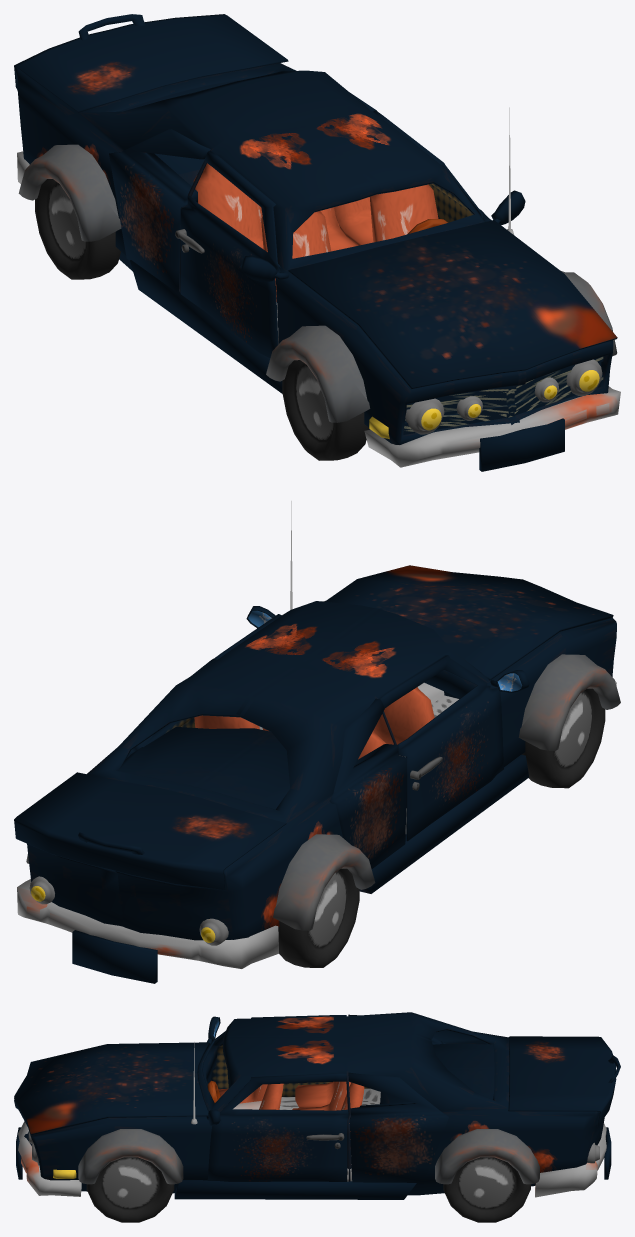
Rendered from Carro2.fbx.
3 views of the same model, one above another, from view 1: azimuth 30°, elevation 25°; view 2: azimuth 150°, elevation 25°; view 3: azimuth 270°, elevation 25° (orthographic). The views are drawn at different scales.
Visible parts, largest first — view 1: carro.006, carro.003, carro.004, carro.001, Cylinder.002, Cylinder.007, carro.002, Cube.001, Cube.006, Cylinder.003, Cube.004, Cube; view 2: carro.006, carro.004, carro.003, carro.001, Cylinder.002, Cylinder.007, carro.002, Cube.003, Cube.001, Cube.004, Cylinder.004, Cube (+1 smaller); view 3: carro.006, carro.003, carro.001, Cylinder.007, carro.002, carro.004, Cylinder.002, Cube.001, Cube.003, Cube.006, Cube.007, Cube.004 (+1 smaller).
Part boxes in pixels (x1,y1,x2,y2): carro.006: (15, 63, 613, 444); carro.003: (288, 220, 617, 389); carro.004: (14, 14, 288, 112); carro.001: (175, 110, 491, 357); Cylinder.002: (18, 144, 617, 422); Cylinder.007: (35, 179, 369, 460); carro.002: (109, 93, 376, 291); Cube.001: (193, 163, 438, 301); Cube.006: (364, 386, 620, 467); Cylinder.003: (405, 359, 602, 434); Cube.004: (479, 418, 564, 471); Cube: (240, 190, 525, 281); carro.006: (27, 601, 616, 940); carro.004: (14, 772, 286, 889); carro.003: (325, 565, 613, 680); carro.001: (214, 614, 503, 841); Cylinder.002: (26, 600, 620, 930); Cylinder.007: (278, 688, 605, 967); carro.002: (126, 658, 407, 868); Cube.003: (17, 879, 279, 968); Cube.001: (194, 687, 434, 759); Cube.004: (72, 930, 157, 983); Cylinder.004: (29, 876, 228, 945); Cube: (246, 606, 529, 692); carro.006: (14, 1012, 604, 1199); carro.003: (14, 1042, 209, 1135); carro.001: (207, 1015, 348, 1181); Cylinder.007: (86, 1157, 530, 1222); carro.002: (348, 1014, 448, 1184); carro.004: (508, 1036, 620, 1126); Cylinder.002: (78, 1129, 539, 1184); Cube.001: (218, 1081, 364, 1139); Cube.003: (535, 1123, 606, 1197); Cube.006: (18, 1121, 81, 1196); Cube.007: (233, 1088, 380, 1181); Cube.004: (16, 1127, 611, 1179).
Size of the model in its own units: 233 by 204 by 596.
